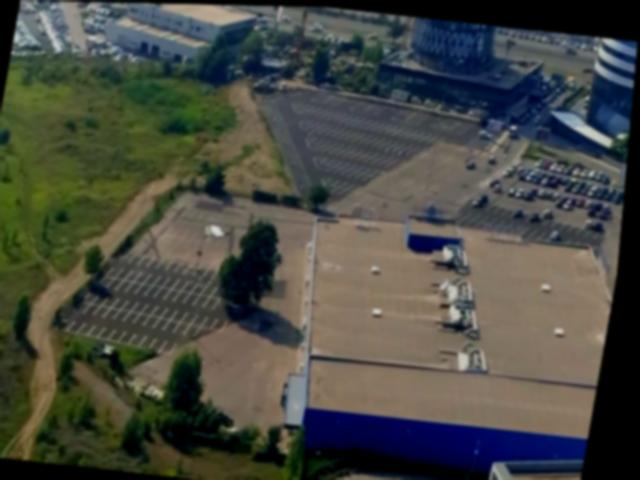plane: (203, 219, 235, 240)
